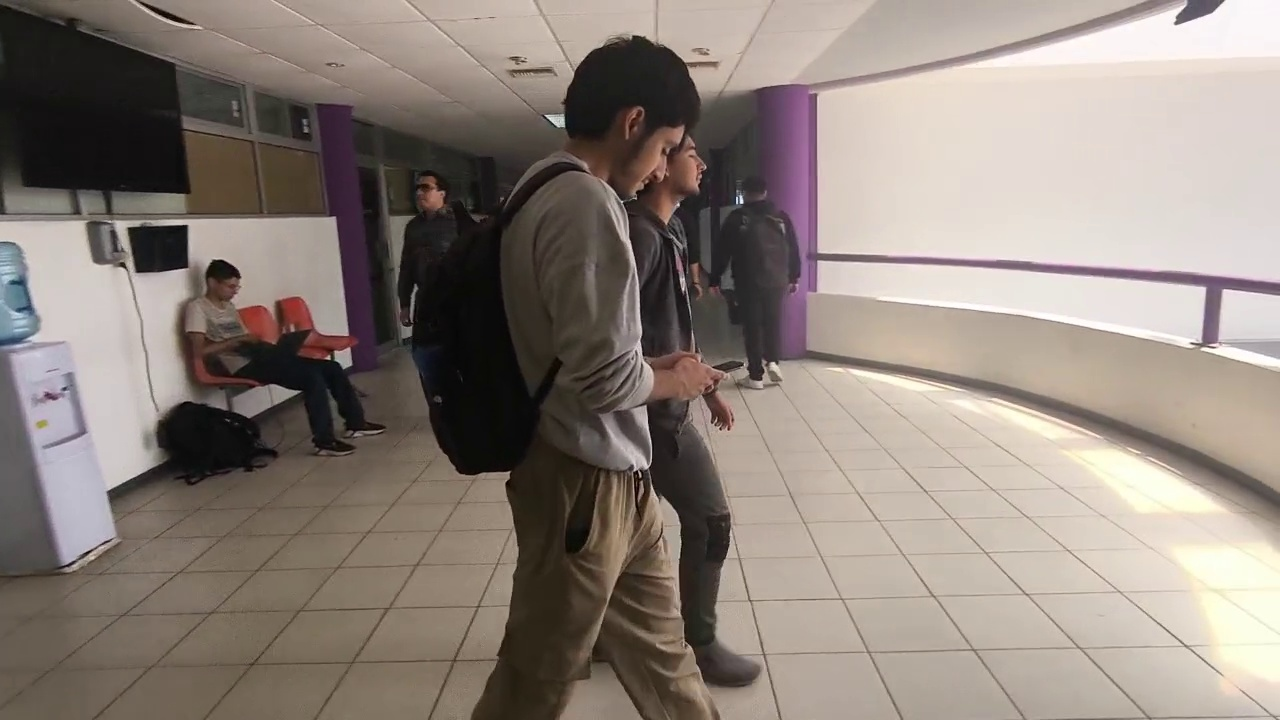mixto2: (701, 350, 746, 376)
